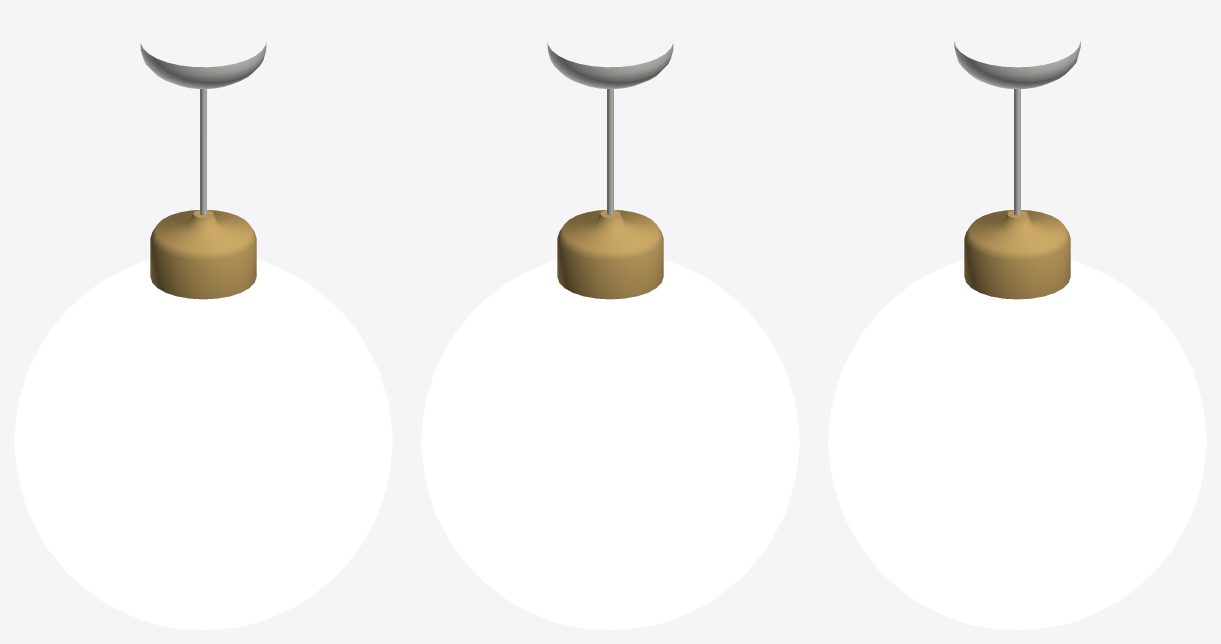
Rendered from lamp_3.glb.
The picture shows the model from 3 angles, left to right: view 1: azimuth 30°, elevation 25°; view 2: azimuth 150°, elevation 25°; view 3: azimuth 270°, elevation 25°; orthographic projection.
Parts seen in each view (by area): view 1: lamp_v1; view 2: lamp_v1; view 3: lamp_v1.
Boxes of the visible parts, left/top/right/bottom form: lamp_v1: left=14, top=42, right=392, bottom=629; lamp_v1: left=421, top=42, right=799, bottom=629; lamp_v1: left=828, top=41, right=1206, bottom=629.
Size of the model in its own units: 0.3 by 0.5 by 0.3.
